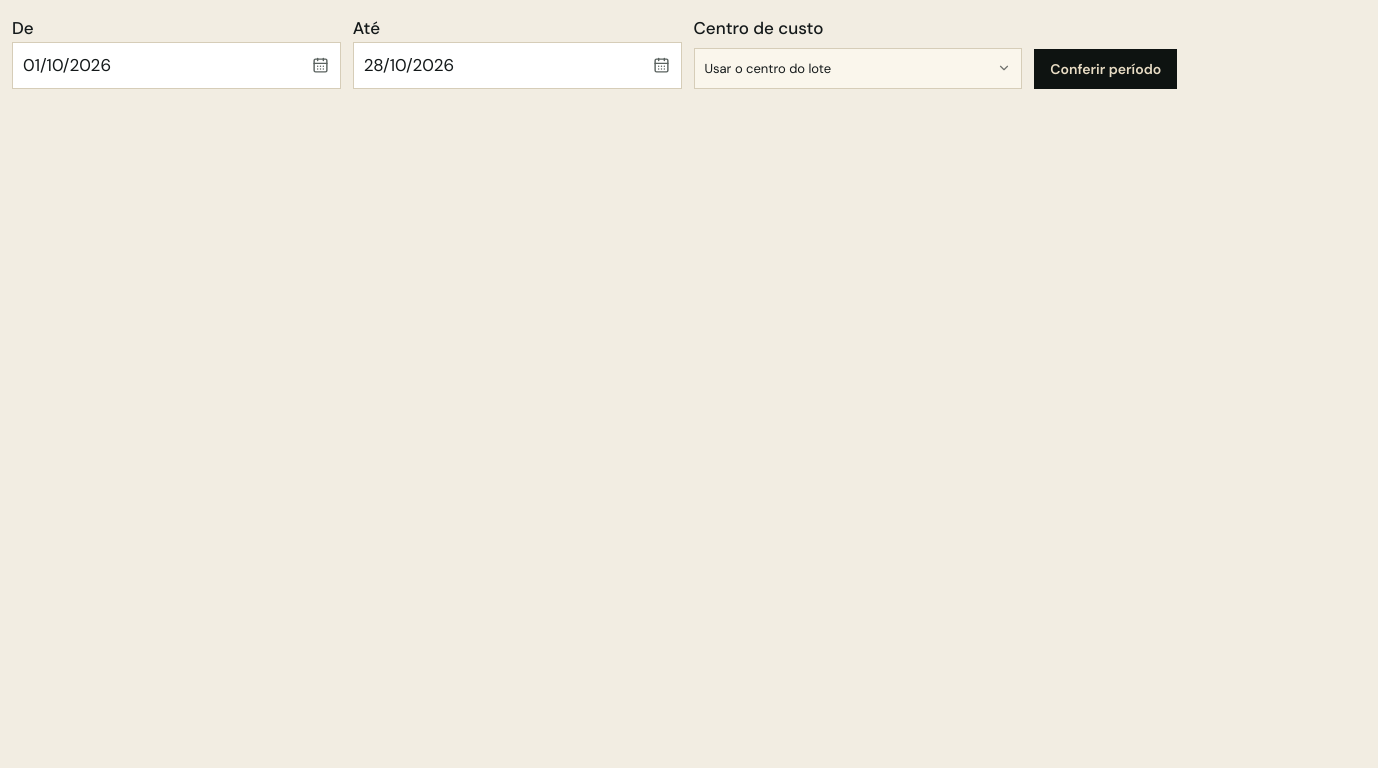
Scenario: conferência nutricional dividida › verValores false não exibe custos mesmo com valores recebidos
Click the button "Conferir período" at (1106, 69), box [1034, 49, 1177, 89]
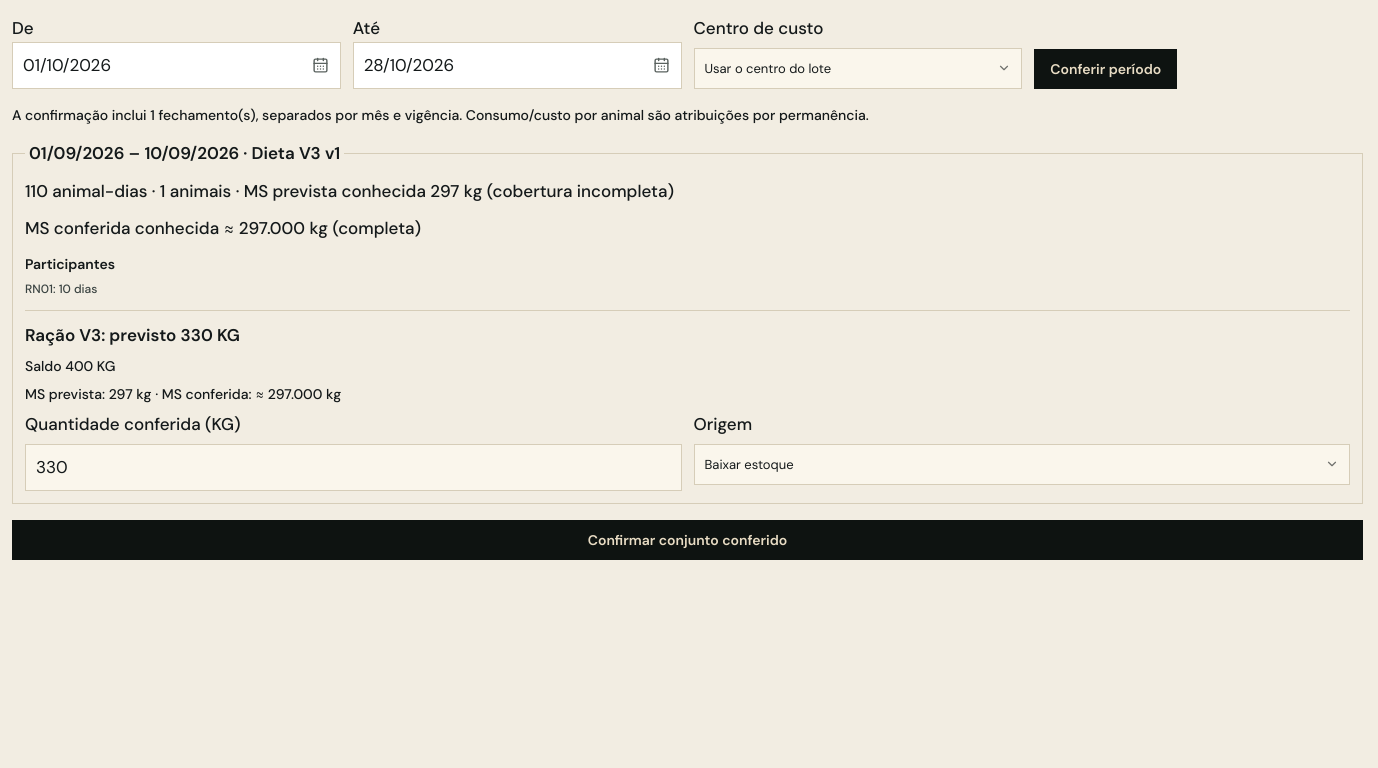
Expected: the text "Ração V3: previsto 330 KG" is shown, [25, 324, 240, 346]
